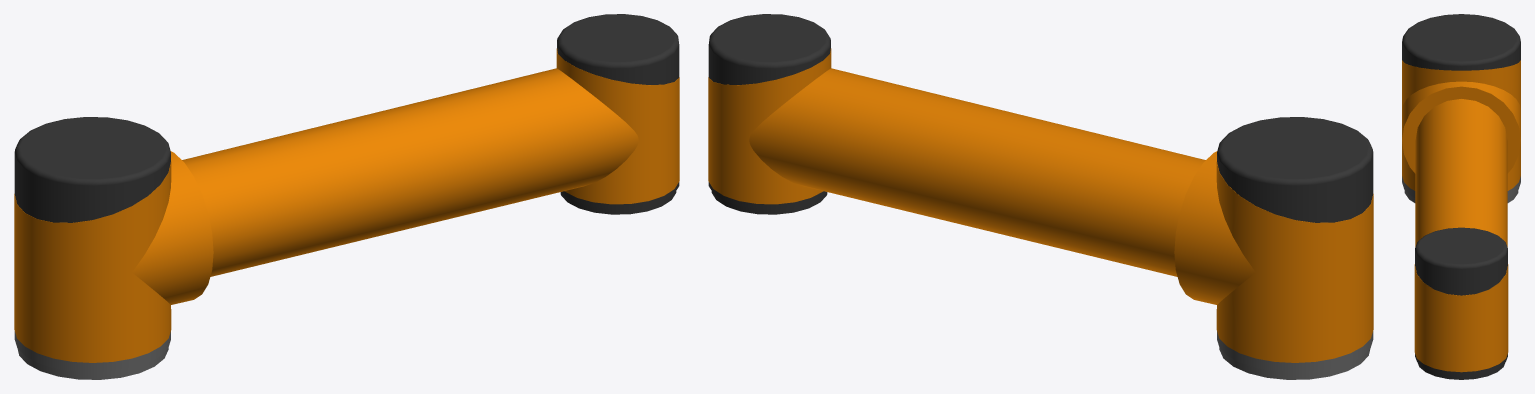
3 views of the same model, side by side, from view 1: azimuth 30°, elevation 25°; view 2: azimuth 150°, elevation 25°; view 3: azimuth 270°, elevation 25° (orthographic). The views are drawn at different scales.
Visible parts, largest first — view 1: NONE; view 2: NONE; view 3: NONE.
Part boxes in pixels (x1,y1,x2,y2): NONE: (14,14,679,379); NONE: (708,14,1373,379); NONE: (1402,14,1520,379).
Bounding box in the file's own units: 0.714 × 0.15 × 0.211.
